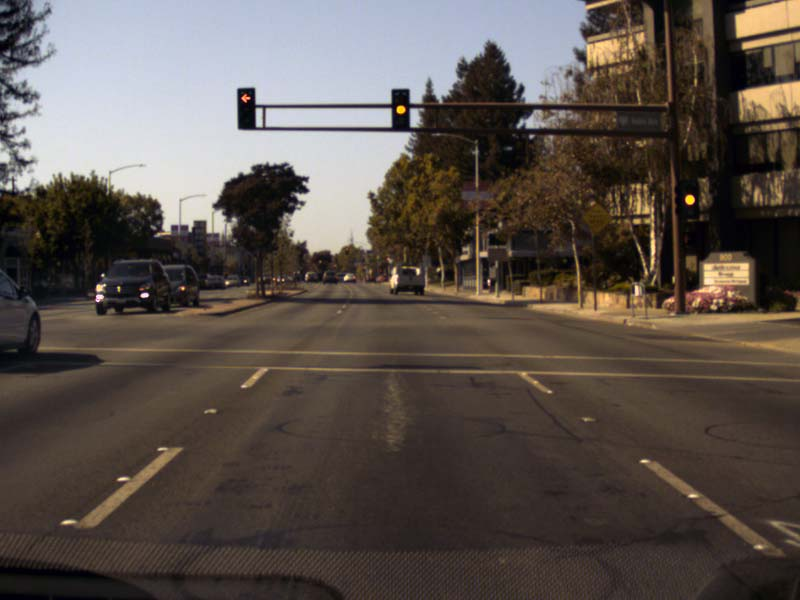Red: (236, 87, 255, 128)
Yellow: (391, 88, 410, 130), (678, 181, 699, 217)
